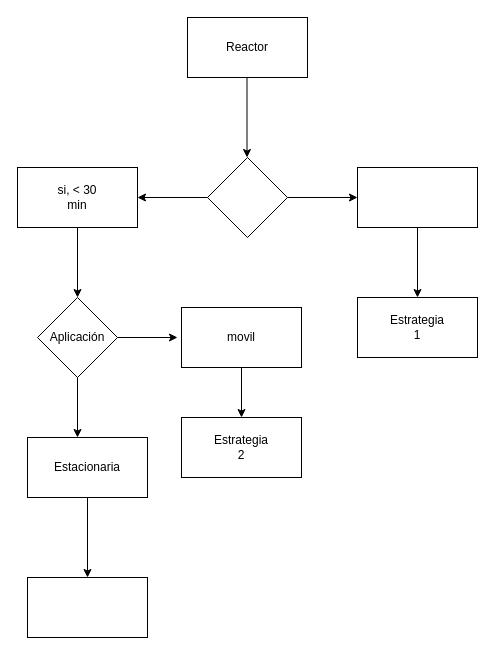
Some shapes in this 495 by 655 pixel diagram are drawn without their labels. The centre of each missing label's shape, as x and y in pixels:
"carga rapida" goes at (x=247, y=197).
"Estrategia 3" goes at (x=87, y=607).
"No, > 1 hora" goes at (x=417, y=197).
